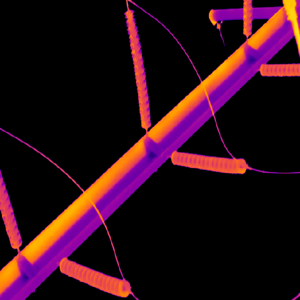insulator: (123, 7, 152, 128), (59, 255, 131, 297), (170, 148, 247, 175), (0, 173, 22, 248), (259, 62, 300, 76), (242, 0, 251, 35)
